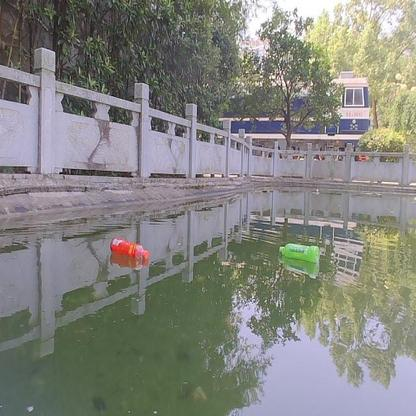plastic bottle: (110, 236, 149, 261), (278, 243, 319, 262)
